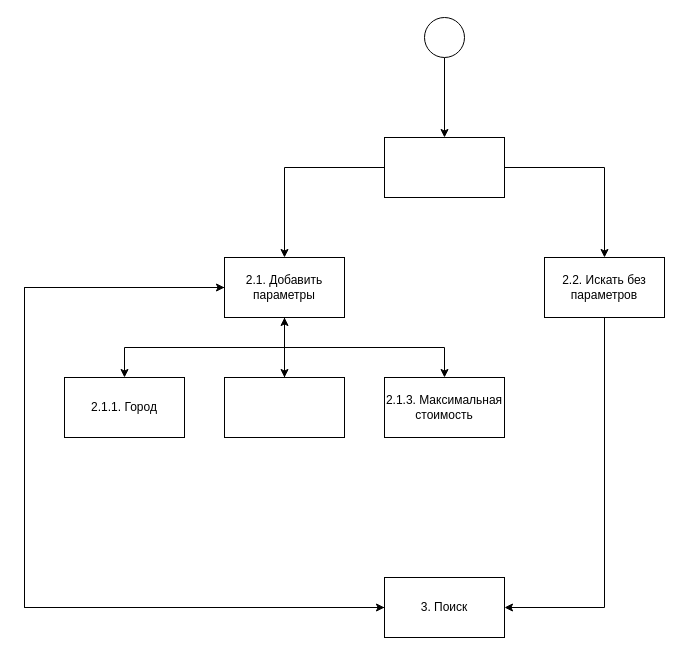
This 682x655 diagram has some shape labels left out. The shapes that lost their labels are listed below. From the top down, each one's centre as x and y in pixels, then its label:
At point 444,167: "1. Старт".
At point 284,407: "2.1.2. Минимальная стоимость".
